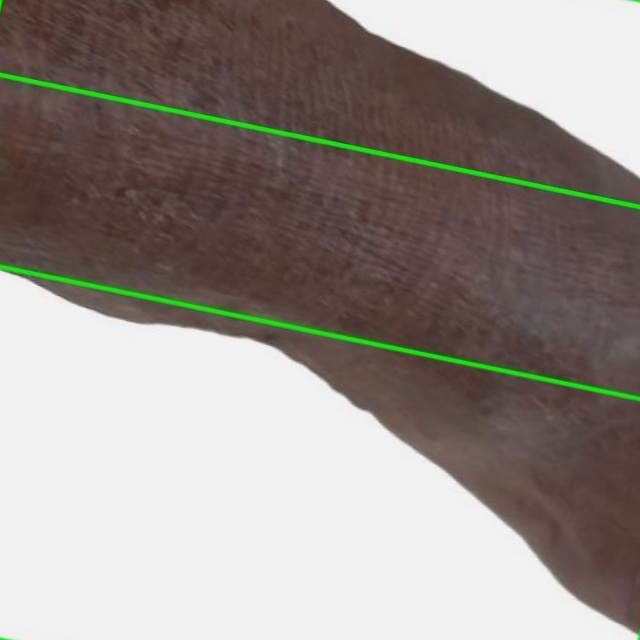Contact Dermatitis: (0, 266, 639, 639)
